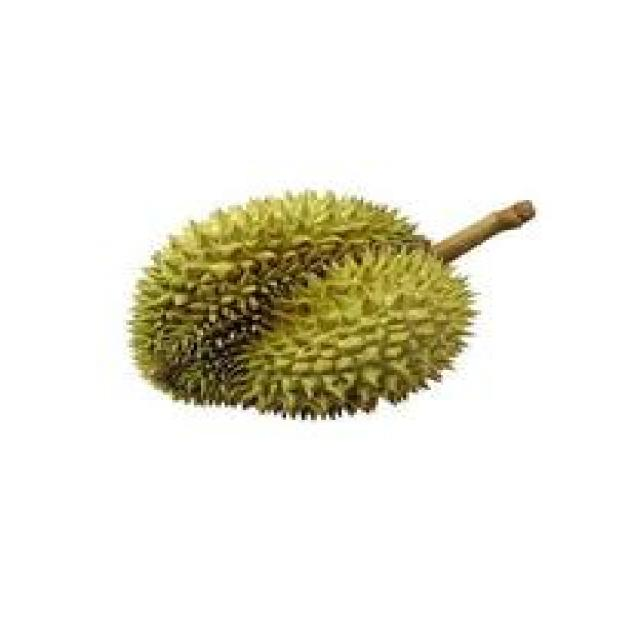Fruit: (320, 215, 505, 477)
